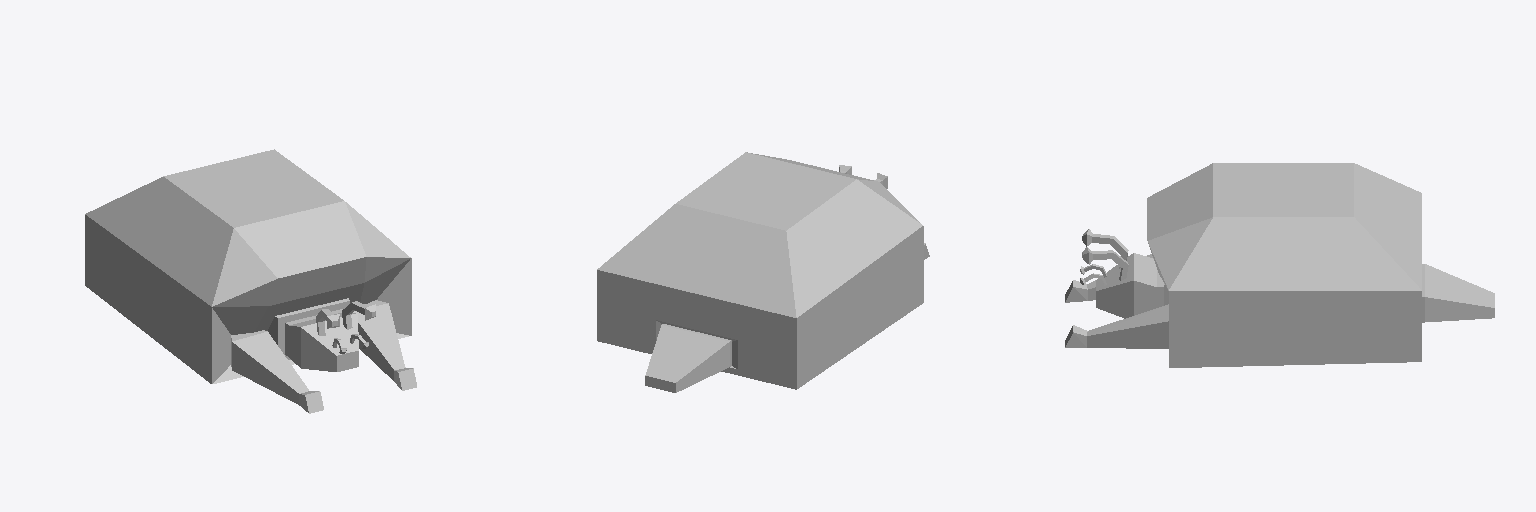
File: ika.obj
The picture shows the model from 3 angles: view 1: azimuth 30°, elevation 25°; view 2: azimuth 150°, elevation 25°; view 3: azimuth 270°, elevation 25°; orthographic projection.
Visible parts, largest first — view 1: Shell, Head, LegRight, LegLeft, Body; view 2: Shell, Tail; view 3: Shell, Head, Tail, LegLeft, LegRight.
Boxes of the visible parts, box(x1,y1,x2,y2) form: Shell: box(85, 149, 411, 383); Head: box(285, 301, 375, 371); LegRight: box(231, 330, 323, 413); LegLeft: box(353, 300, 416, 390); Body: box(268, 298, 349, 359); Shell: box(597, 152, 923, 389); Tail: box(645, 324, 731, 392); Shell: box(1147, 163, 1421, 367); Head: box(1080, 229, 1163, 318); Tail: box(1422, 264, 1494, 322); LegLeft: box(1065, 304, 1168, 348); LegRight: box(1065, 254, 1153, 302).
Bounding box in the file's own units: 1.97 × 1.24 × 3.67.